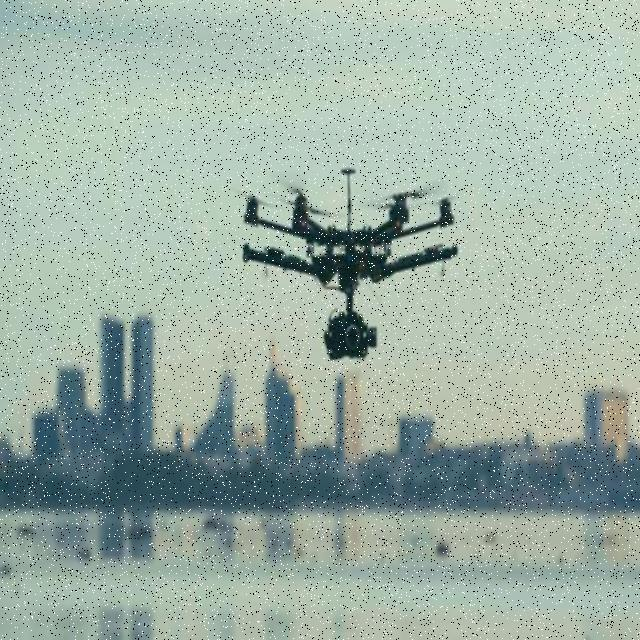UAV: (240, 162, 458, 364)
